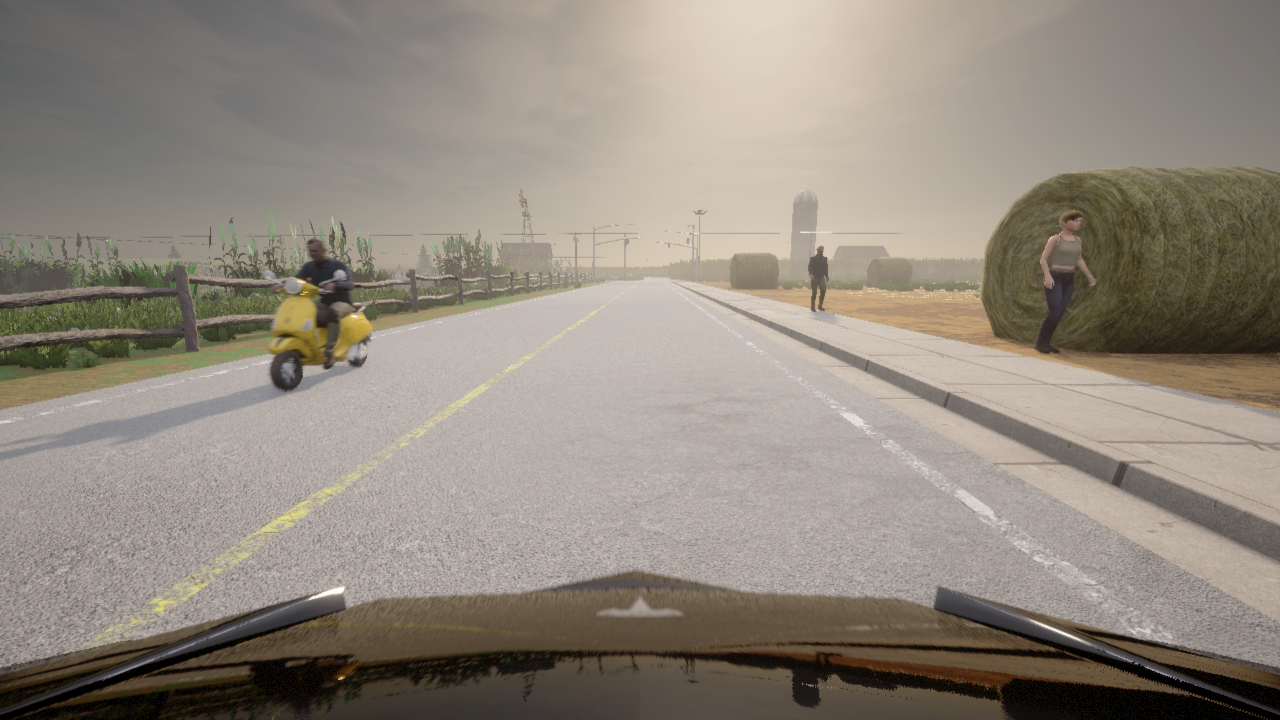cyclist: (0, 569, 1279, 719), (264, 270, 371, 390)
pedestrian: (1034, 210, 1095, 353), (808, 245, 828, 311)
